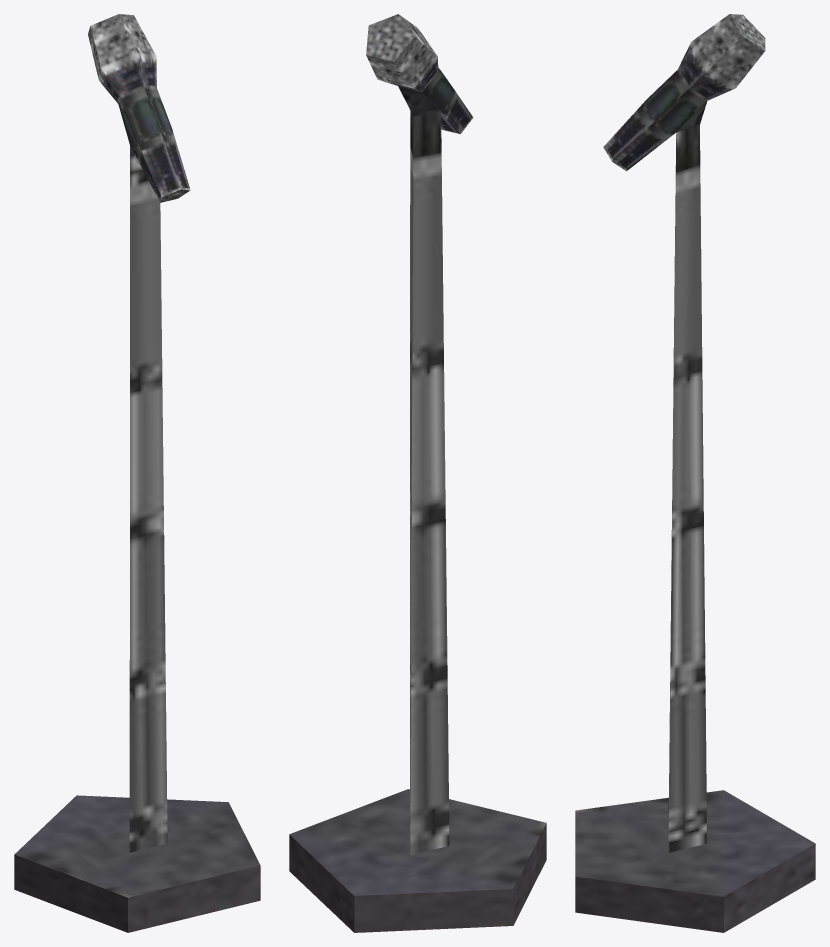
The model's file is Microphone.obj.
3 views of the same model, side by side, from view 1: azimuth 30°, elevation 25°; view 2: azimuth 150°, elevation 25°; view 3: azimuth 270°, elevation 25° (orthographic). The views are drawn at different scales.
Visible parts, largest first — view 1: pCylinder7; view 2: pCylinder7; view 3: pCylinder7.
Part boxes in pixels (bbox=[...]): pCylinder7: bbox=[14, 14, 260, 932]; pCylinder7: bbox=[289, 14, 546, 932]; pCylinder7: bbox=[575, 14, 815, 932].
Size of the model in its own units: 0.7354 by 2.78 by 0.6994.
Materials: 1 (1 with a texture image).
